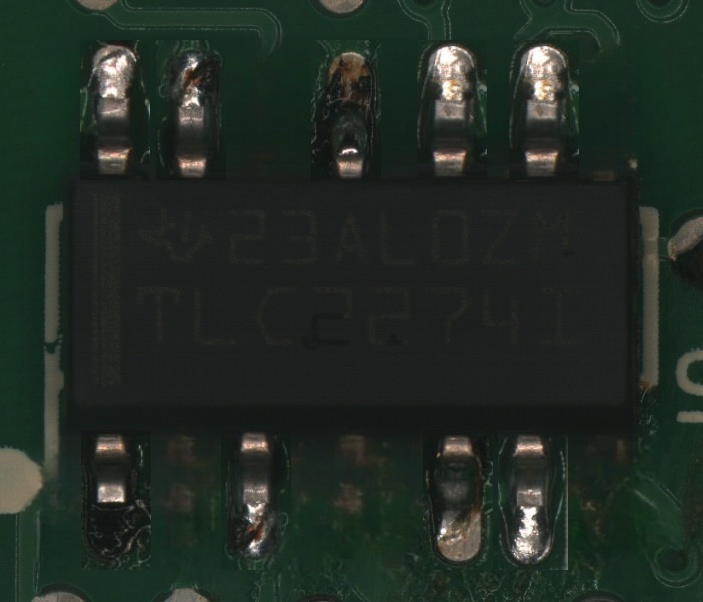NG: (221, 430, 291, 570), (423, 430, 493, 570), (81, 430, 151, 570), (311, 40, 381, 180), (156, 40, 226, 180)
OK: (509, 40, 579, 180), (80, 40, 150, 180), (498, 430, 568, 570), (417, 40, 487, 180)
